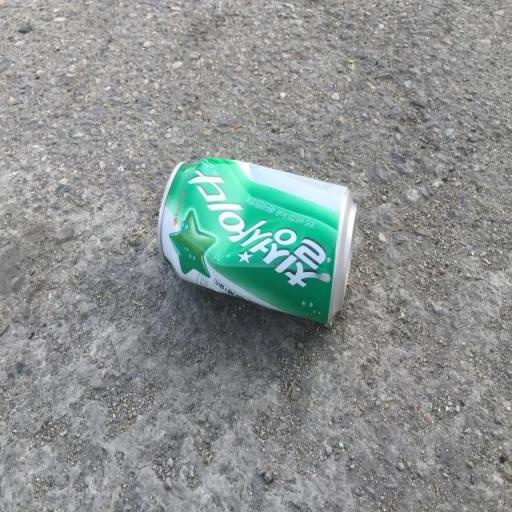metal: (132, 138, 382, 352)
